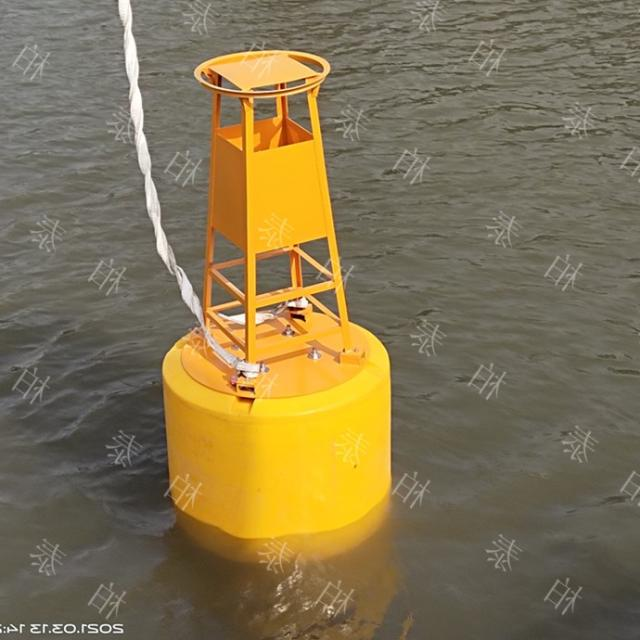buoy: (152, 41, 408, 534)
